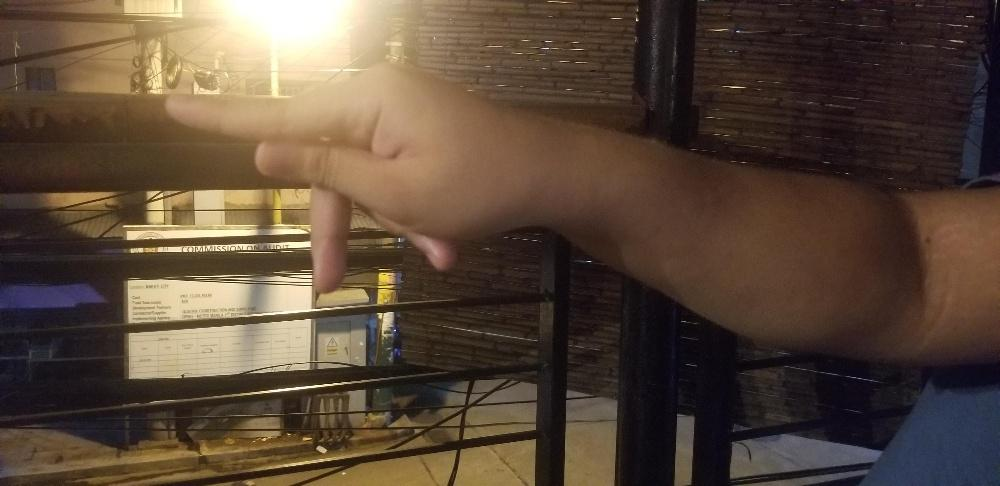p: (166, 63, 516, 295)
